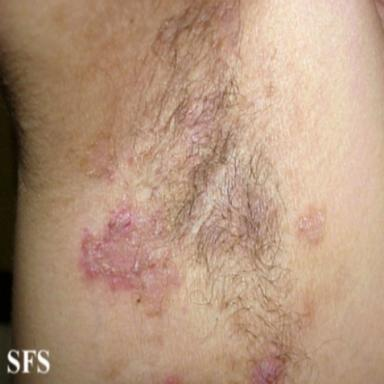Hailey-Hailey-Disease: (81, 209, 180, 314), (252, 351, 286, 382), (299, 212, 325, 240)
